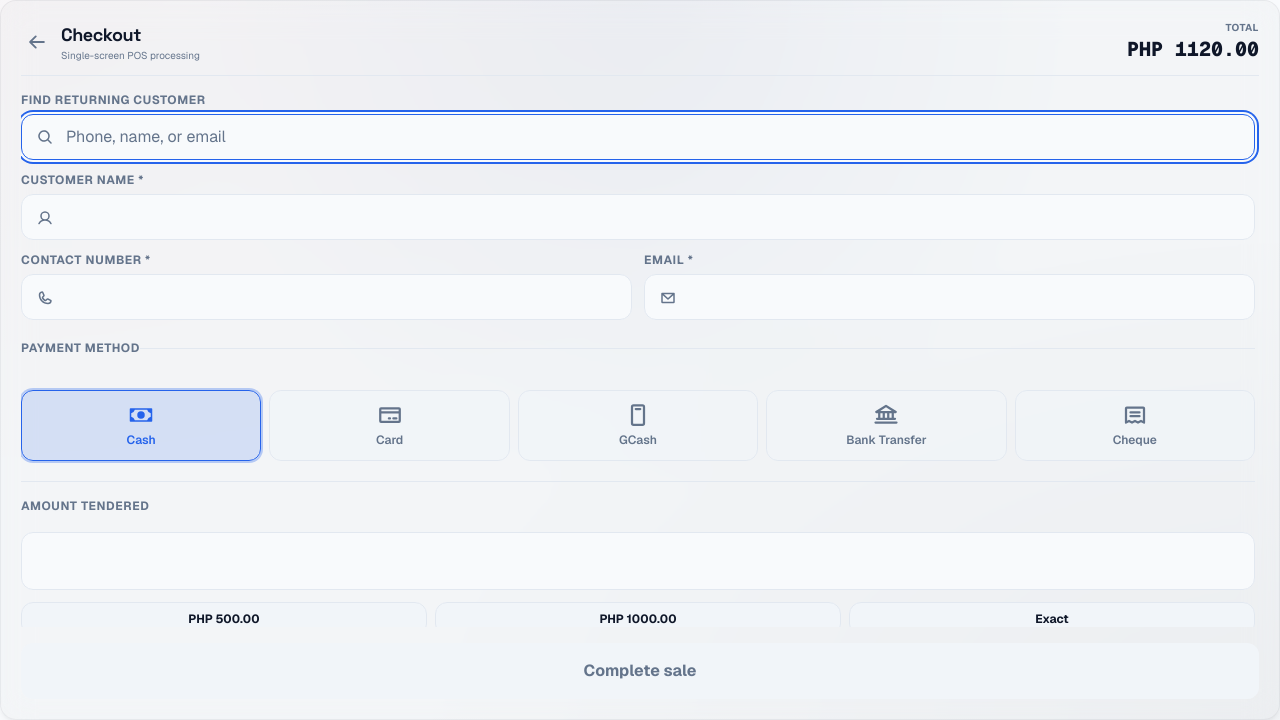
Test case: PosCheckoutPane › autofills from a repeat-buyer lookup hit
In the field labelled "Find returning customer": (638, 137) [21,114,1255,160], type "0999"
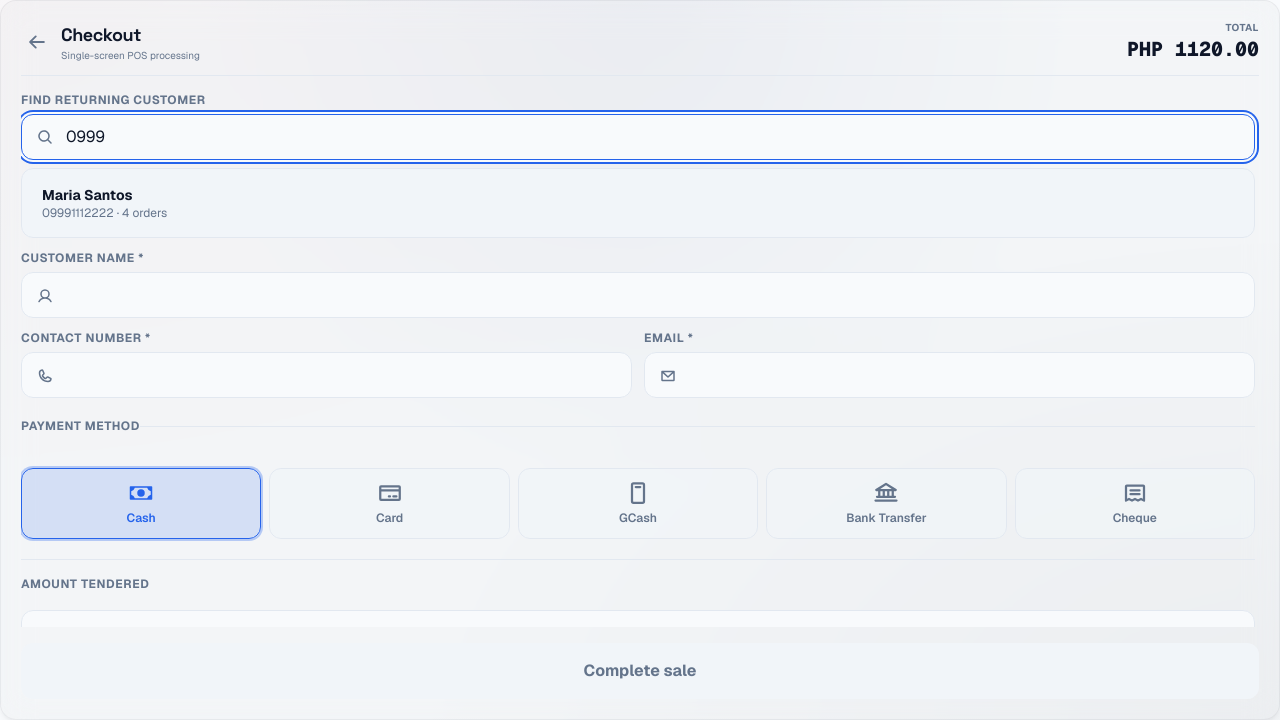
Expected: the text "Maria Santos" is shown, [42,186,132,204]
Click the button with aria-label "use maria santos": (87, 195) [30,177,1246,229]
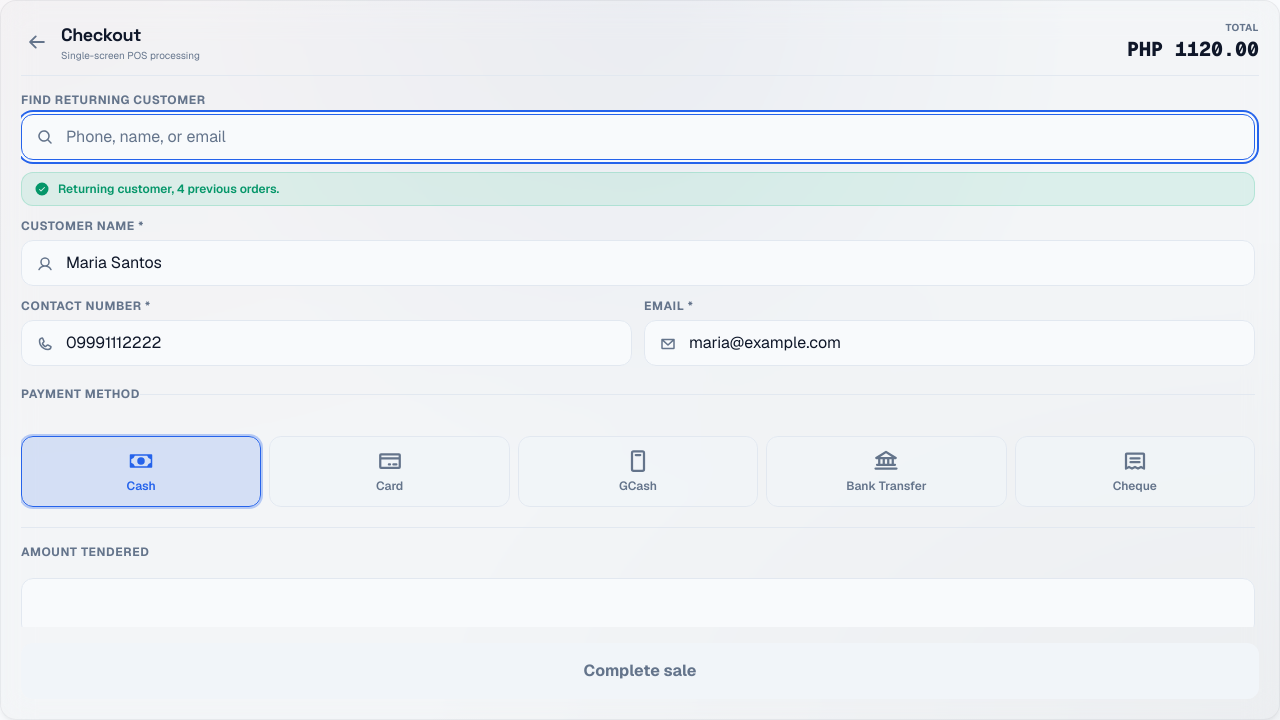
Expected: the field labelled "Customer name *" holds "Maria Santos", [21,240,1255,286]
Expected: the field labelled "Contact number *" holds "09991112222", [21,320,632,366]
Expected: the field labelled "Email *" holds "maria@example.com", [644,320,1255,366]
